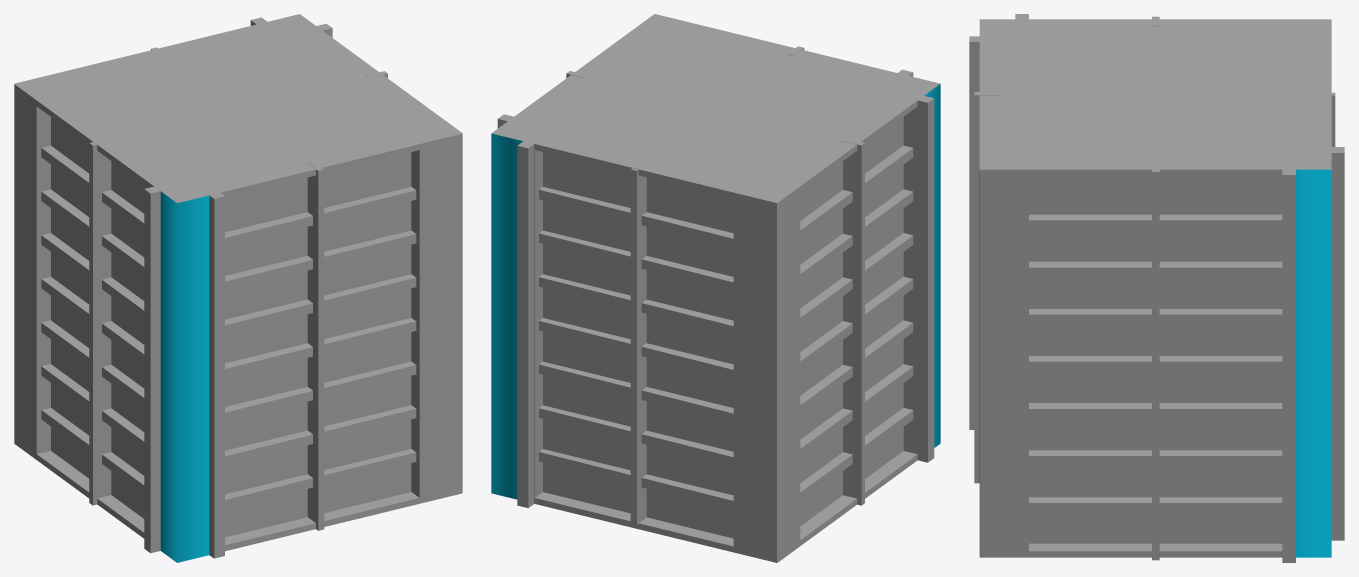
The model's file is BuildingPiece_1_Mid.fbx.
The picture shows the model from 3 angles, left to right: view 1: azimuth 30°, elevation 25°; view 2: azimuth 150°, elevation 25°; view 3: azimuth 270°, elevation 25°; orthographic projection. The views are drawn at different scales.
Parts seen in each view (by area): view 1: BuildingPiece1_Mid; view 2: BuildingPiece1_Mid; view 3: BuildingPiece1_Mid.
Boxes of the visible parts, x1,y1,x2,y2 form: BuildingPiece1_Mid: (14, 14, 462, 562); BuildingPiece1_Mid: (491, 14, 940, 562); BuildingPiece1_Mid: (969, 14, 1344, 562).
Bounding box in the file's own units: 33.88 × 38.08 × 33.39.
